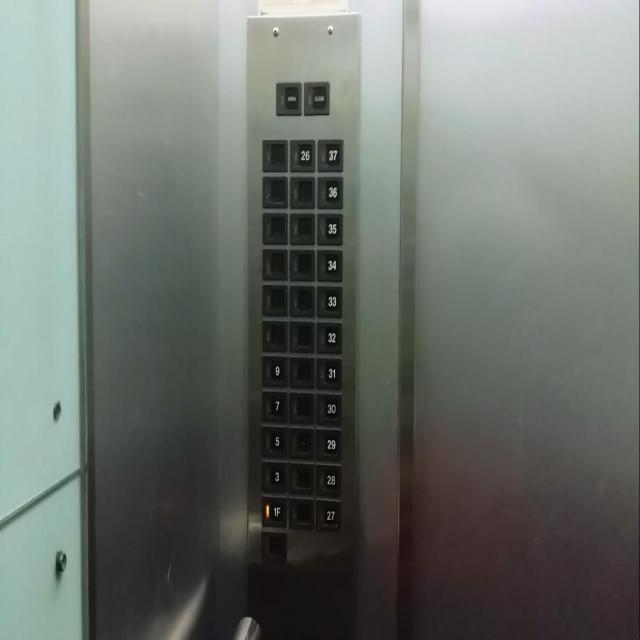1F: (262, 496, 288, 526)
26: (289, 139, 316, 172)
27: (314, 500, 340, 533)
28: (314, 462, 340, 496)
29: (315, 429, 343, 461)
3: (262, 460, 287, 493)
30: (315, 392, 341, 426)
31: (316, 356, 342, 390)
32: (315, 322, 341, 354)
33: (316, 286, 342, 317)
34: (316, 250, 343, 282)
35: (316, 212, 343, 246)
36: (317, 176, 343, 208)
37: (317, 138, 343, 171)
5: (260, 426, 286, 456)
7: (262, 392, 288, 423)
9: (262, 356, 288, 388)
empty: (262, 173, 289, 210), (288, 356, 316, 391), (261, 284, 289, 319), (288, 428, 315, 464), (288, 496, 314, 532), (288, 462, 314, 497), (289, 175, 316, 208), (288, 393, 315, 426), (289, 213, 315, 247), (288, 284, 314, 318), (261, 139, 287, 173), (288, 248, 316, 279), (262, 248, 288, 281), (289, 321, 314, 355), (262, 213, 288, 244), (262, 321, 288, 352)
text: (276, 81, 301, 115), (304, 81, 329, 112)
